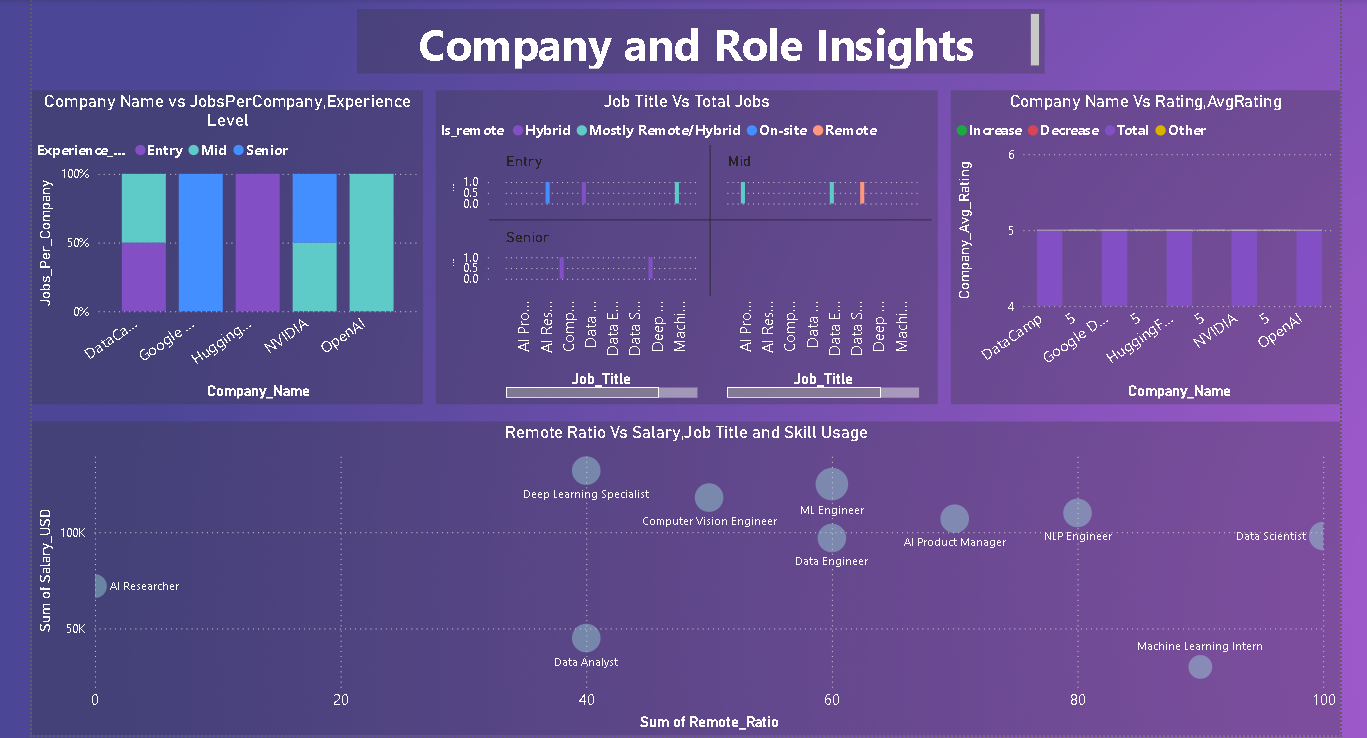

The dashboard page shown, as its layout file describes it:
{"tool":"powerbi","page":{"name":"Company & Role Insights","canvas":[1280,720],"ordinal":2},"visuals":[{"type":"textbox","box":[317.9,9.8,672.6,63.6],"z":0},{"type":"hundredPercentStackedColumnChart","title":"Company Name vs JobsPerCompany,Experience Level","fields":{"Category":["Dim_Companies.Company_Name"],"Y":["Dim_Companies.Jobs_Per_Company"],"Series":["Fact_Jobs.Experience_Level"]},"box":[0,89.3,382.7,306.9],"z":1000},{"type":"clusteredColumnChart","title":"Job Title Vs Total Jobs","fields":{"Category":["Fact_Jobs.Job_Title"],"Y":["Fact_Jobs.Total_Jobs"],"Series":["Fact_Jobs.Is_remote"],"Rows":["Fact_Jobs.Experience_Level"]},"box":[395,89.3,491.6,306.9],"z":2000},{"type":"waterfallChart","title":"Company Name Vs Rating,AvgRating","fields":{"Y":["Dim_Companies.Company_Avg_Rating"],"Category":["Dim_Companies.Company_Name"],"Breakdown":["Dim_Companies.Rating"]},"box":[898.5,89.3,381.5,306.9],"z":3000},{"type":"scatterChart","title":"Remote Ratio Vs Salary,Job Title and Skill Usage","fields":{"X":["Sum(Fact_Jobs.Remote_Ratio)"],"Category":["Fact_Jobs.Job_Title"],"Y":["Sum(Fact_Jobs.Salary_USD)"],"Size":["Dim_Skills.SkillsageCount"]},"box":[0,413.3,1280.3,306.9],"z":4000}]}

Visuals, with their boxes on the page's 1280x720 design canvas (x1, y1, x2, y2). These are canvas units, not pixel positions in the 1367x738 screenshot, which may show the page scaled, cropped or inside an application window:
textbox: <region>318, 10, 990, 73</region>
"Company Name vs JobsPerCompany,Experience Level" hundredPercentStackedColumnChart: <region>0, 89, 383, 396</region>
"Job Title Vs Total Jobs" clusteredColumnChart: <region>395, 89, 887, 396</region>
"Company Name Vs Rating,AvgRating" waterfallChart: <region>898, 89, 1280, 396</region>
"Remote Ratio Vs Salary,Job Title and Skill Usage" scatterChart: <region>0, 413, 1280, 720</region>
